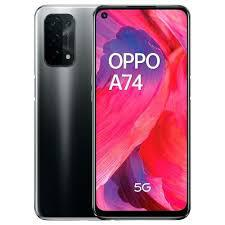Smartphone: (95, 8, 193, 216), (36, 4, 100, 218)
